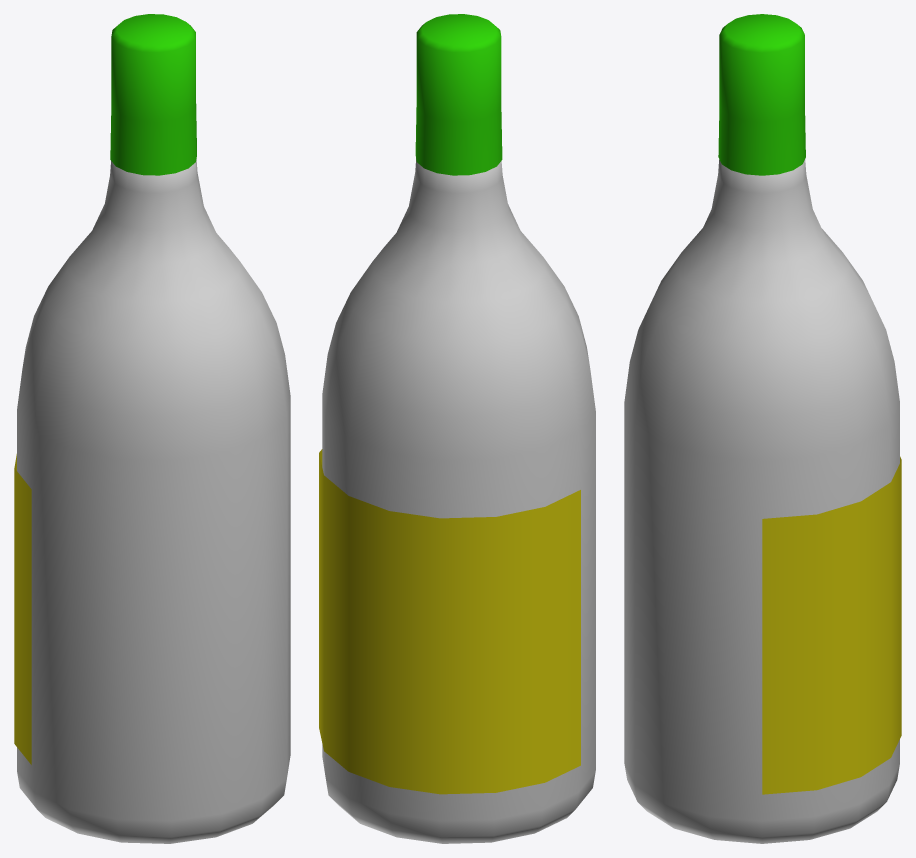
File: BHP_MOD_BOT_Red_wine.fbx
3 renders of one model, left to right at view 1: azimuth 30°, elevation 25°; view 2: azimuth 150°, elevation 25°; view 3: azimuth 270°, elevation 25°, orthographic.
Parts seen in each view (by area): view 1: BHP_MOD_Bottle_Red_wine; view 2: BHP_MOD_Bottle_Red_wine; view 3: BHP_MOD_Bottle_Red_wine.
Boxes of the visible parts, x1=… form: BHP_MOD_Bottle_Red_wine: x1=14, y1=14, x2=290, y2=843; BHP_MOD_Bottle_Red_wine: x1=319, y1=14, x2=595, y2=843; BHP_MOD_Bottle_Red_wine: x1=624, y1=14, x2=901, y2=843.
Size of the model in its own units: 0.0995 by 0.2977 by 0.0983.
